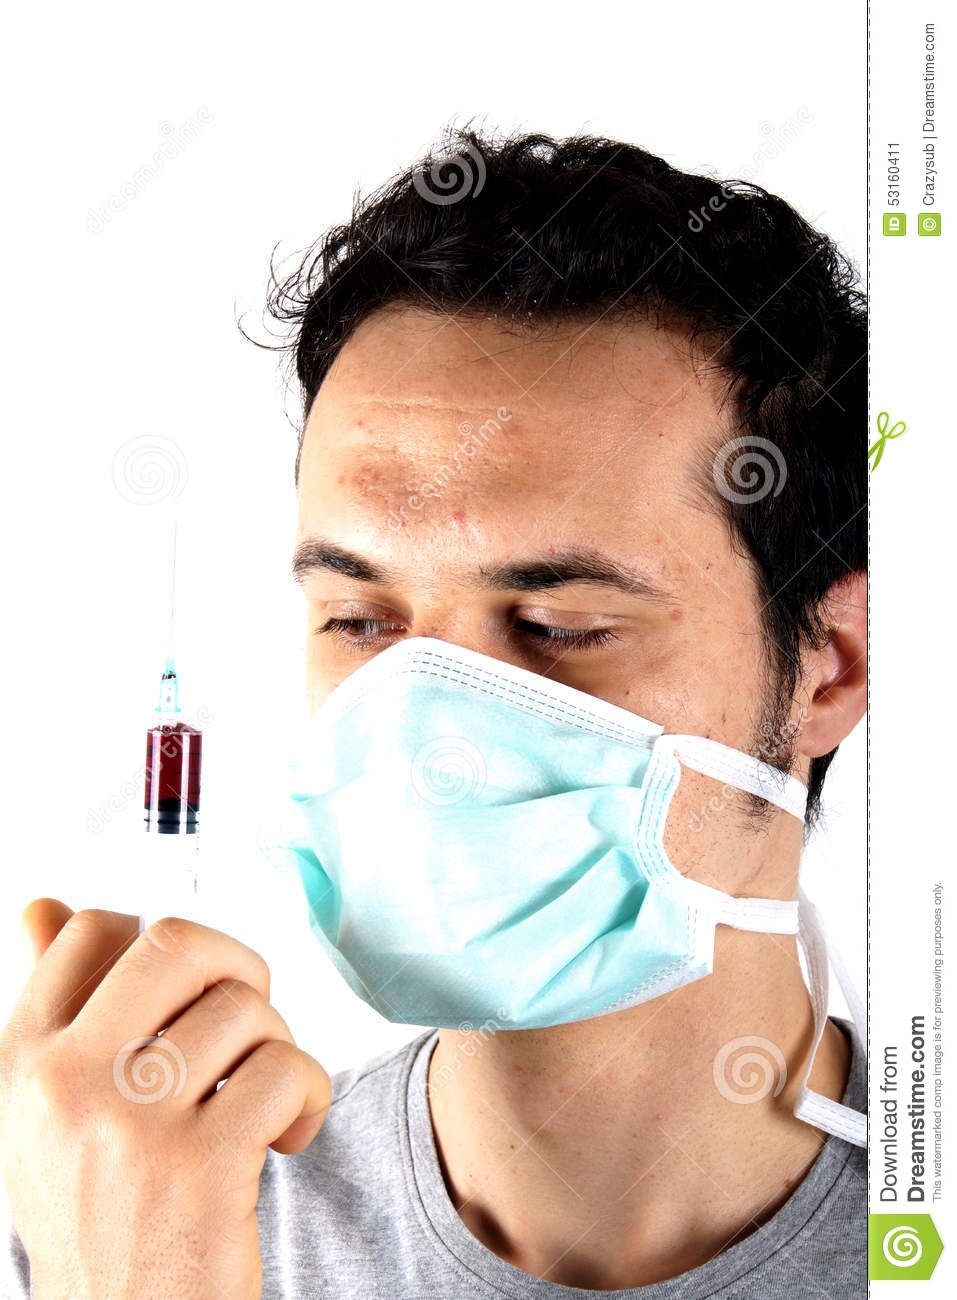mask: (276, 663, 716, 1011)
